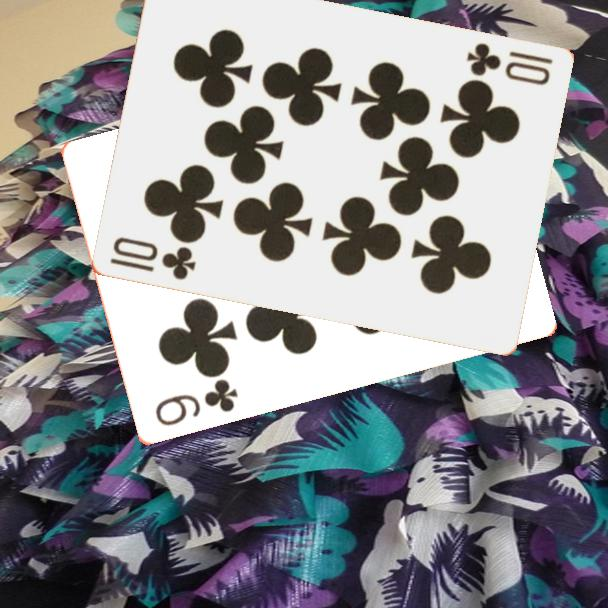c09: (151, 376, 241, 430)
c10: (105, 234, 199, 284), (462, 39, 555, 89)
